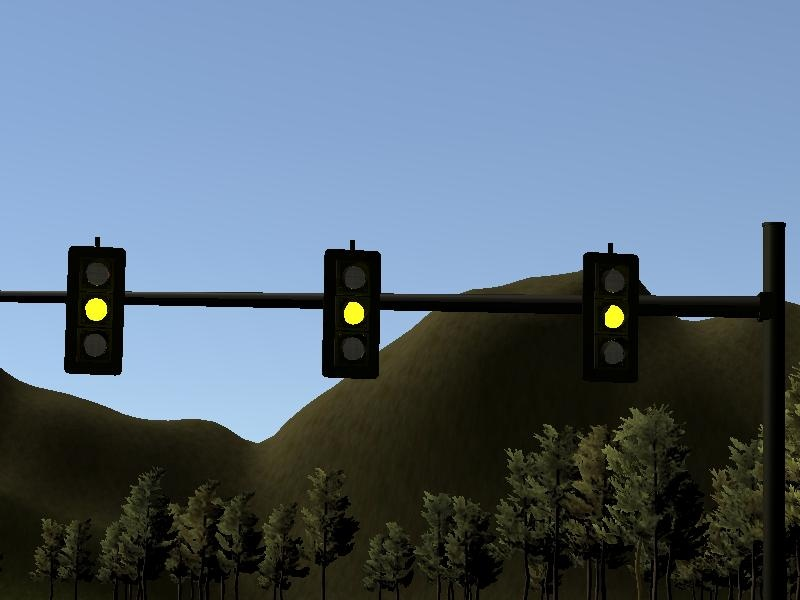yellow: (574, 236, 644, 388), (59, 230, 128, 382), (317, 233, 385, 385)
